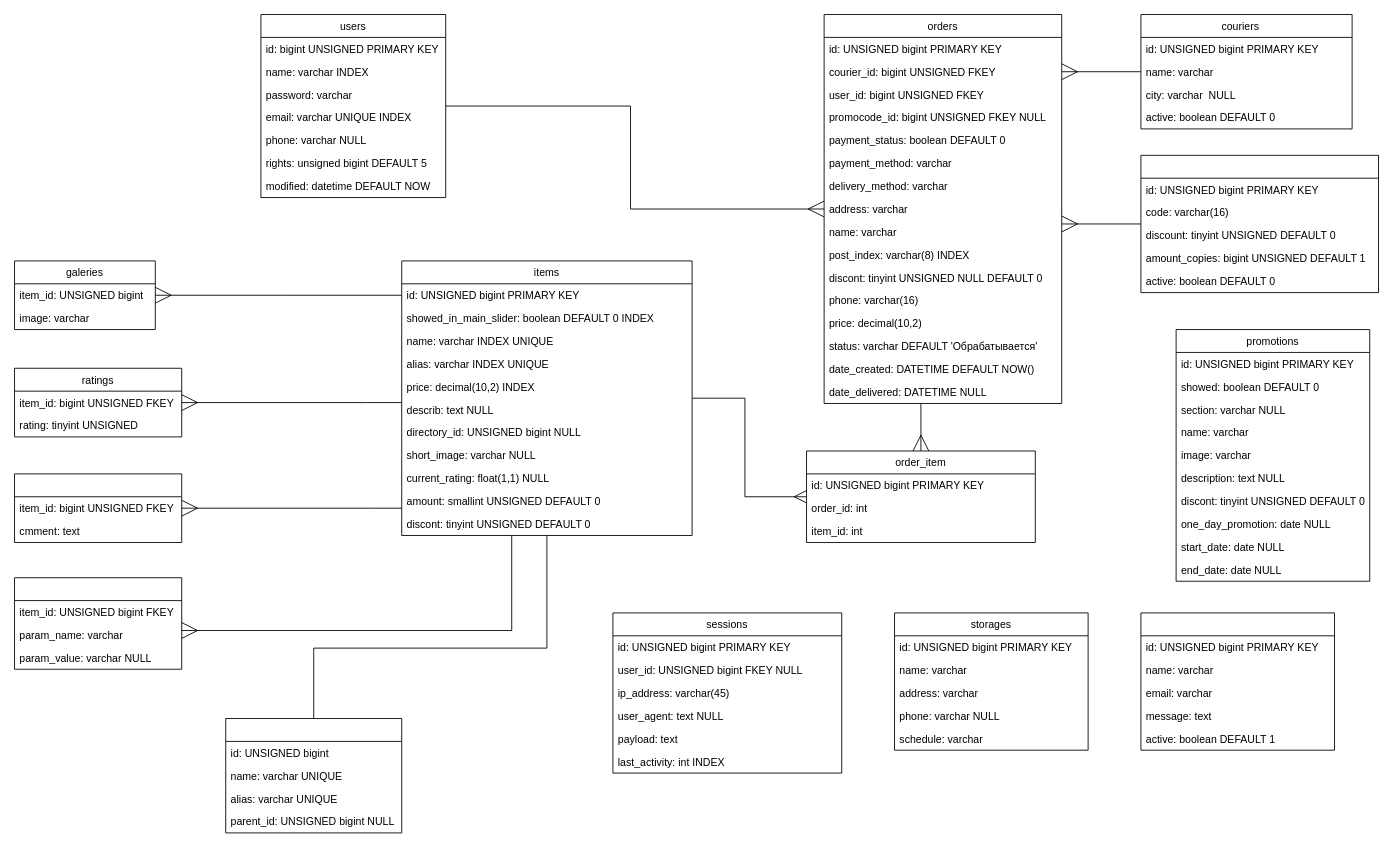
Image size: 1393x847. Some labels were removed from this diagram. Here are the shapes that lost their labels. From the top down, the box of each, then its label:
(1140, 154, 1379, 293): promocodes
(14, 473, 182, 543): comments
(14, 577, 182, 669): parameters
(1140, 612, 1335, 750): contacts
(225, 718, 402, 833): directories
